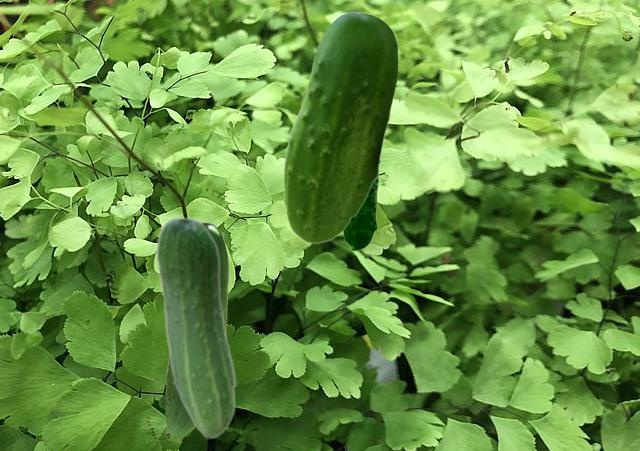cucumber: (283, 11, 397, 243), (155, 215, 236, 438), (165, 222, 228, 440), (343, 160, 381, 250)
